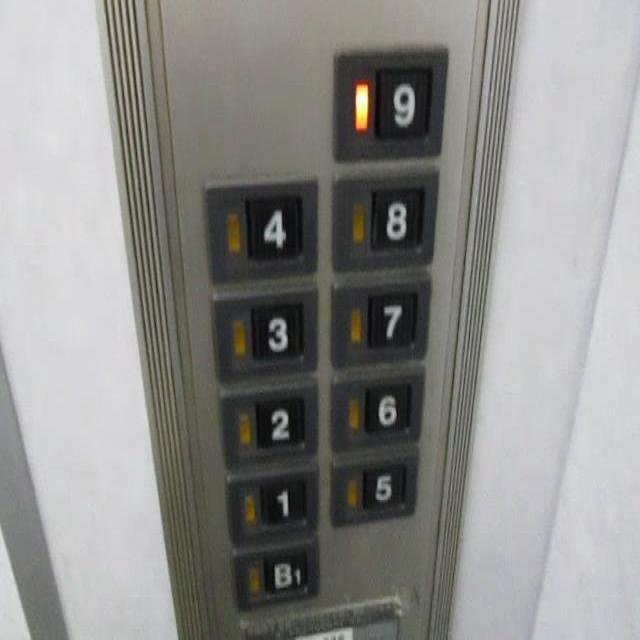1: (222, 465, 318, 540)
2: (215, 380, 317, 469)
3: (211, 284, 319, 385)
4: (202, 172, 318, 285)
5: (330, 447, 419, 528)
6: (328, 369, 425, 451)
7: (331, 270, 430, 366)
8: (330, 168, 436, 265)
9: (332, 41, 449, 158)
B1: (230, 532, 320, 608)
